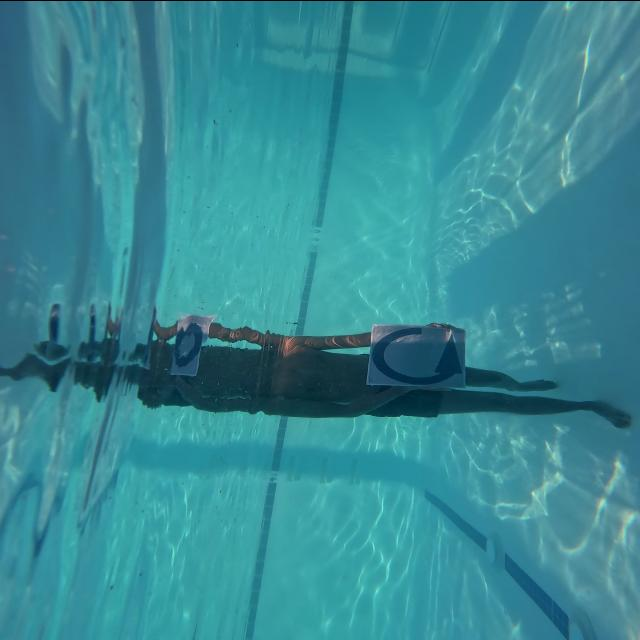blue_side: (366, 324, 470, 386)
